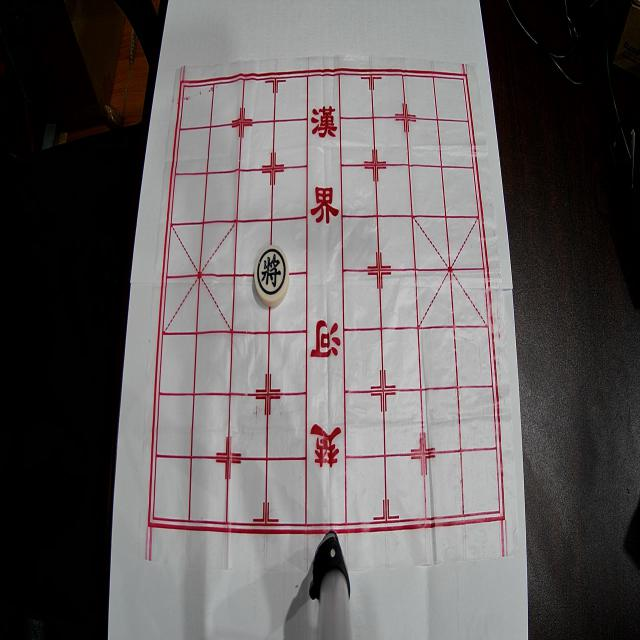black-general: (254, 245, 290, 307)
